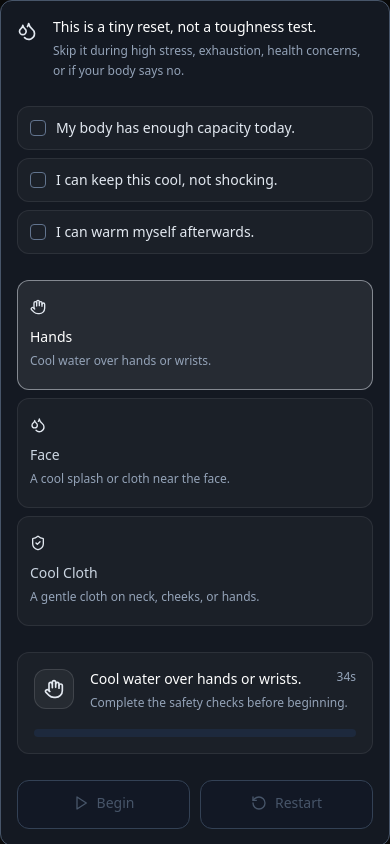
Test: ColdWaterResetPanel › keeps begin disabled until all safety checks are confirmed
Expected: the button "Begin" is disabled, [17,780,190,828]
Step 1. Click the button "My body has enough capacity today." → (195, 128), box [17,106,373,150]
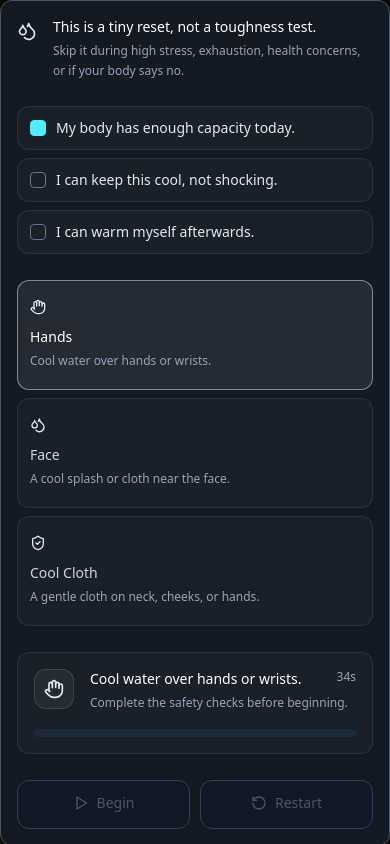
Step 2. Click the button "I can keep this cool, not shocking." → (195, 180), box [17,158,373,202]
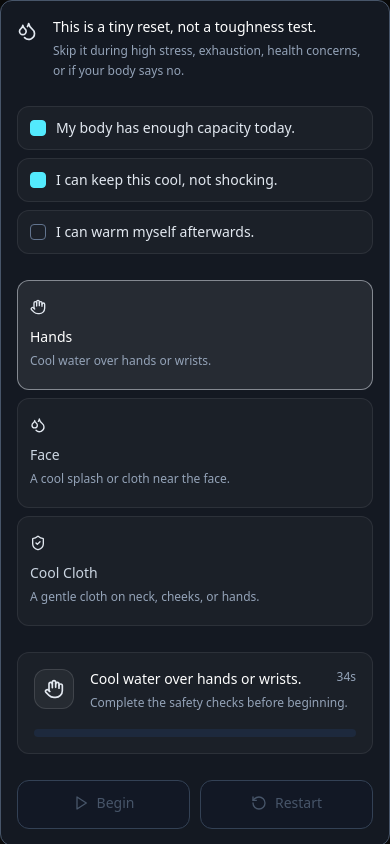
Step 3. Click the button "I can warm myself afterwards." → (195, 232), box [17,210,373,254]
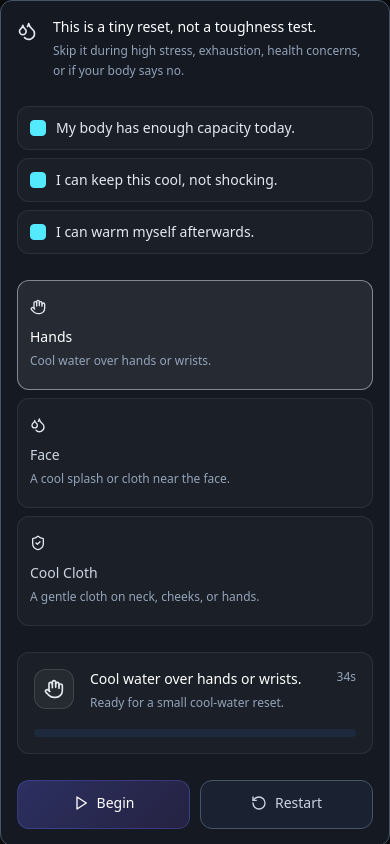
Expected: the button "Begin" is enabled, [17,780,190,828]
Expected: the text "Ready for a small cool-water reset." is shown, [90,694,284,711]
